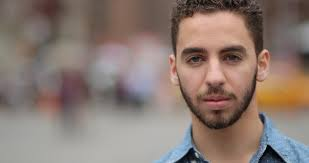white_male: (183, 22, 253, 119)
